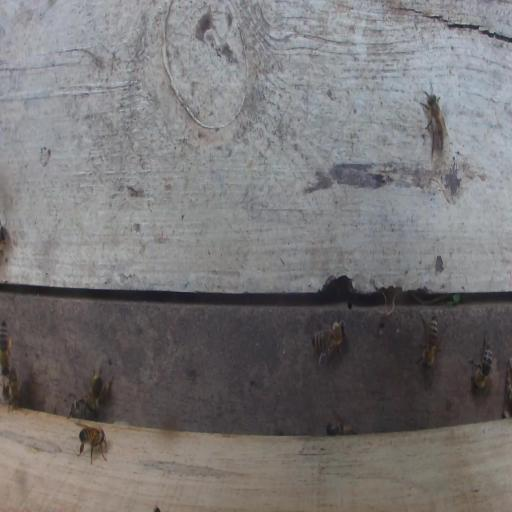bee: (420, 90, 448, 157), (311, 319, 346, 371), (71, 371, 104, 416), (467, 334, 492, 391), (416, 311, 439, 368), (77, 424, 108, 464), (0, 320, 13, 374), (7, 369, 21, 412), (503, 358, 512, 416), (326, 420, 358, 435)
